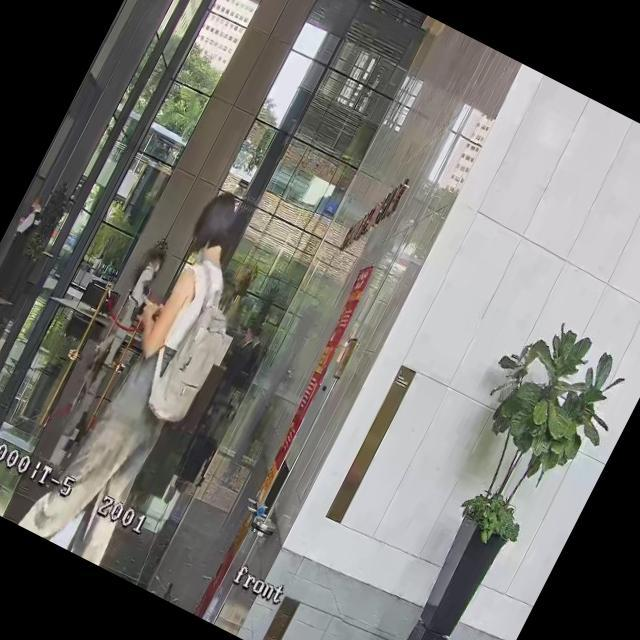person: (18, 173, 280, 564), (90, 248, 170, 372), (0, 190, 51, 299), (216, 323, 262, 390), (237, 328, 270, 376)
